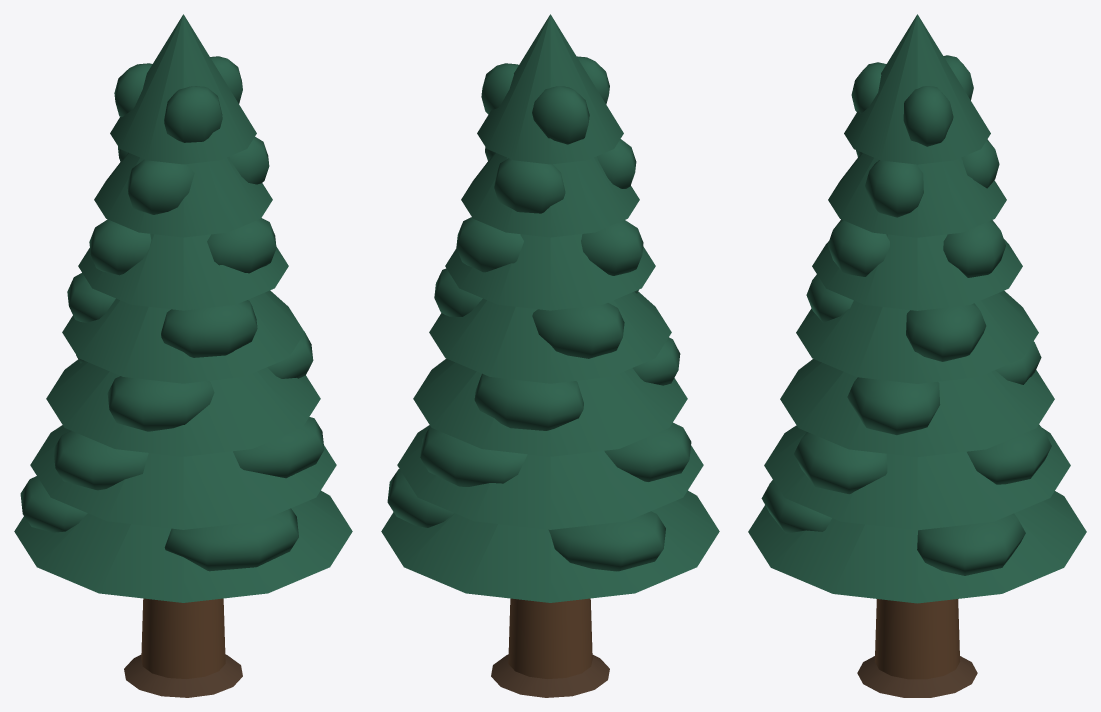
The model's file is pine_l04-2.glb.
3 views of the same model, side by side, from view 1: azimuth 30°, elevation 25°; view 2: azimuth 150°, elevation 25°; view 3: azimuth 270°, elevation 25° (orthographic).
Visible parts, largest first — view 1: layered_branch_crown, tapered_trunk, pine_l04; view 2: layered_branch_crown, tapered_trunk, pine_l04; view 3: layered_branch_crown, tapered_trunk, pine_l04.
Part boxes in pixels (x1,y1,x2,y2): layered_branch_crown: [14, 14, 352, 602]; tapered_trunk: [141, 598, 225, 678]; pine_l04: [124, 654, 242, 697]; layered_branch_crown: [381, 14, 719, 602]; tapered_trunk: [508, 598, 592, 678]; pine_l04: [491, 654, 609, 697]; layered_branch_crown: [748, 14, 1086, 603]; tapered_trunk: [874, 599, 960, 679]; pine_l04: [857, 656, 977, 697].
Bounding box in the file's own units: 2.44 × 5.24 × 2.44.
